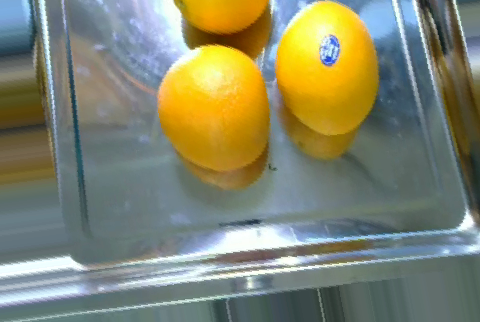Orange: (157, 44, 273, 172), (274, 1, 380, 137)
